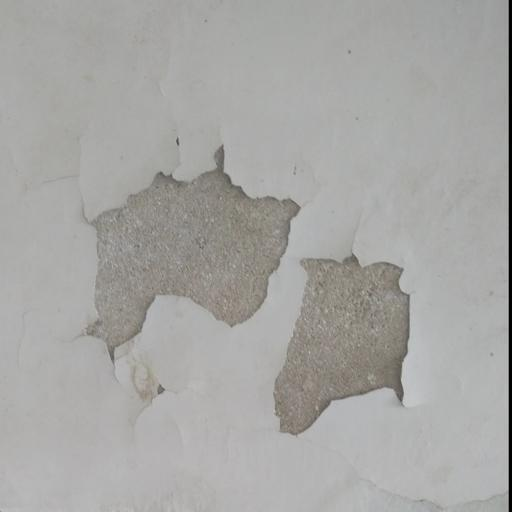peeling: (43, 127, 302, 392), (265, 244, 441, 446)
